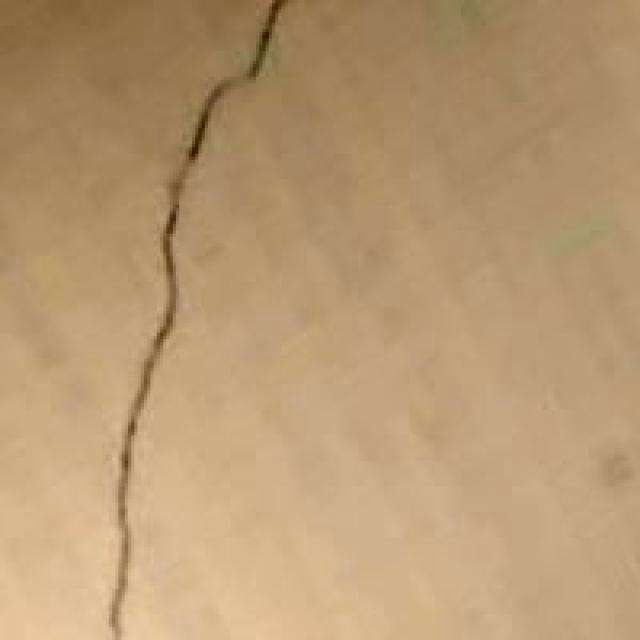crack: (70, 0, 304, 640)
